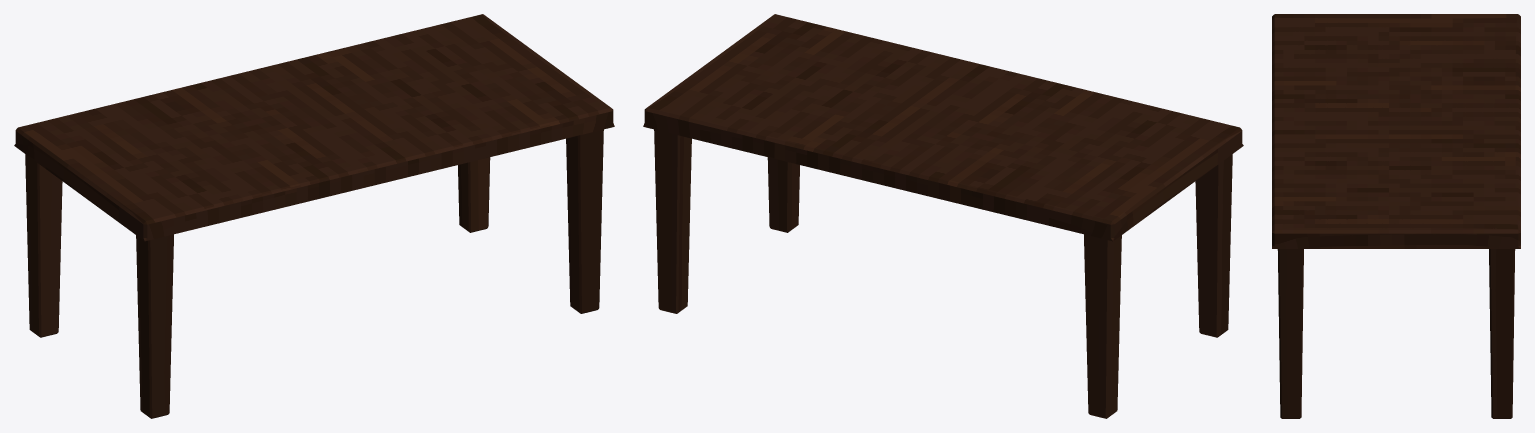
The model's file is table.obj.
3 views of the same model, side by side, from view 1: azimuth 30°, elevation 25°; view 2: azimuth 150°, elevation 25°; view 3: azimuth 270°, elevation 25° (orthographic). The views are drawn at different scales.
Visible parts, largest first — view 1: Cube; view 2: Cube; view 3: Cube.
Part boxes in pixels (x1,y1,x2,y2): Cube: [14, 14, 614, 418]; Cube: [643, 14, 1243, 418]; Cube: [1272, 14, 1520, 418].
Size of the model in its own units: 14.44 by 5.96 by 6.96.
